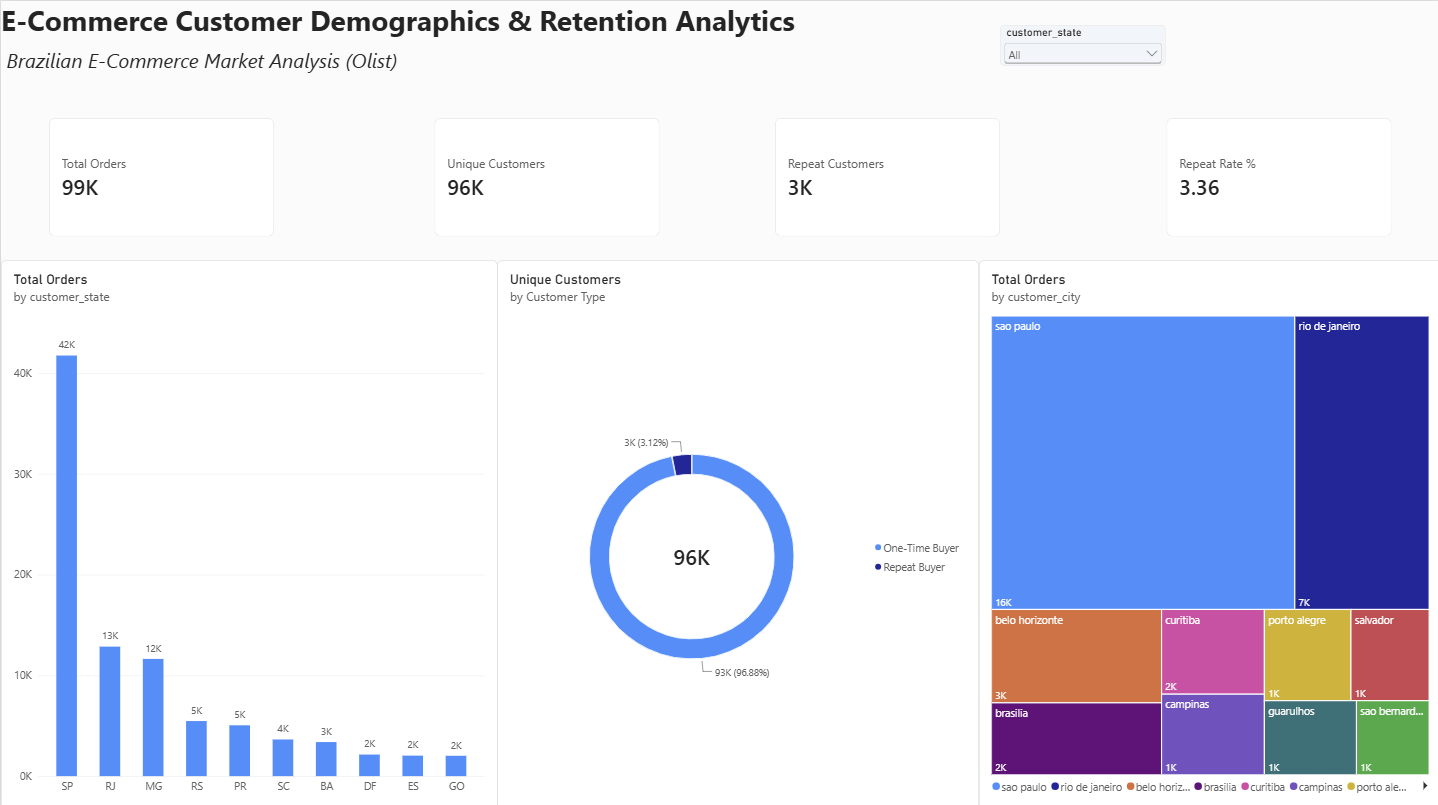

The dashboard page shown, as its layout file describes it:
{"tool":"powerbi","page":{"name":"Page 1","canvas":[1920,1080],"ordinal":0},"visuals":[{"type":"textbox","box":[0,0,1059.6,59.6],"z":0},{"type":"textbox","box":[0,59.6,529.8,48.9],"z":1000},{"type":"cardVisual","fields":{"Data":["cleaned_olist_customers.Total Orders"]},"box":[64.7,155.9,300,158.8],"z":2000},{"type":"cardVisual","fields":{"Data":["cleaned_olist_customers.Unique Customers"]},"box":[578.7,155.3,300,158.8],"z":3000},{"type":"cardVisual","fields":{"Data":["cleaned_olist_customers.Repeat Customers"]},"box":[1031.9,155.3,300,158.8],"z":4000},{"type":"cardVisual","fields":{"Data":["cleaned_olist_customers.Repeat Rate %"]},"box":[1553.2,155.3,300,158.8],"z":5000},{"type":"columnChart","fields":{"Category":["cleaned_olist_customers.customer_state"],"Y":["cleaned_olist_customers.Total Orders"]},"box":[0,346,662.1,732.8],"z":6000},{"type":"donutChart","fields":{"Category":["cleaned_olist_customers.Customer Type"],"Y":["cleaned_olist_customers.Unique Customers"]},"box":[662.1,346,641.7,732.8],"z":7000},{"type":"treemap","fields":{"Group":["cleaned_olist_customers.customer_city"],"Values":["cleaned_olist_customers.Total Orders"]},"box":[1303.8,346,617.5,732.8],"z":8000},{"type":"slicer","fields":{"Values":["cleaned_olist_customers.customer_state"]},"box":[1332.5,32.9,220.8,54.2],"z":9000}]}

Visuals, with their boxes in screenshot pixels (x1, y1, x2, y2), scaled from the page's 1920x1080 canvas onto the 1438x805 screenshot:
textbox: bbox=(0, 0, 794, 44)
textbox: bbox=(0, 44, 397, 81)
cardVisual - cleaned_olist_customers.Total Orders: bbox=(48, 116, 273, 235)
cardVisual - cleaned_olist_customers.Unique Customers: bbox=(433, 116, 658, 234)
cardVisual - cleaned_olist_customers.Repeat Customers: bbox=(773, 116, 998, 234)
cardVisual - cleaned_olist_customers.Repeat Rate %: bbox=(1163, 116, 1388, 234)
columnChart - cleaned_olist_customers.customer_state x cleaned_olist_customers.Total Orders: bbox=(0, 258, 496, 804)
donutChart - cleaned_olist_customers.Customer Type x cleaned_olist_customers.Unique Customers: bbox=(496, 258, 976, 804)
treemap - cleaned_olist_customers.customer_city x cleaned_olist_customers.Total Orders: bbox=(976, 258, 1437, 804)
slicer - cleaned_olist_customers.customer_state: bbox=(998, 25, 1163, 65)
